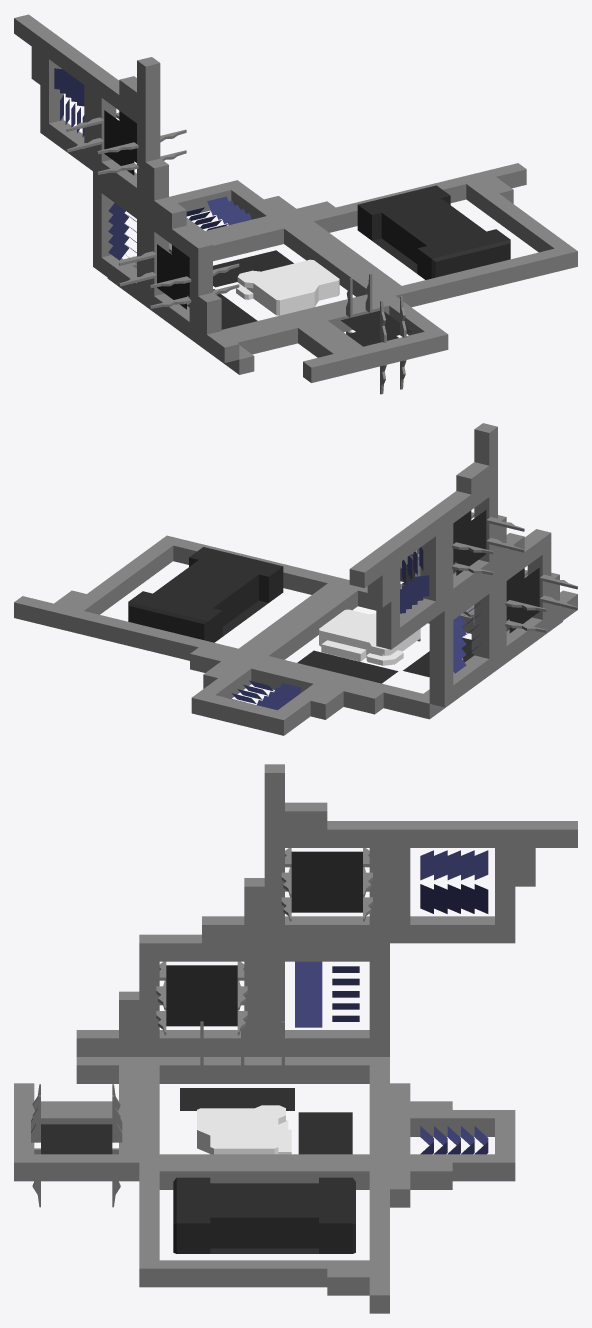
The model's file is StarbaseAtlasProjectProvingGrounds.glb.
3 views of the same model, one above another, from view 1: azimuth 30°, elevation 25°; view 2: azimuth 150°, elevation 25°; view 3: azimuth 270°, elevation 25° (orthographic). The views are drawn at different scales.
Parts seen in each view (by area): view 1: Block_Ship_Hangars.002, Block_Marketplace.002, Quarter_Block_Towers.037, Quarter_Block_Towers.038, Quarter_Block_Towers.039, Quarter_Block_solar.003, Quarter_Block_solar.002, Quarter_Block_Three_Quarter.023, Quarter_Block_solar.001, Quarter_Block_Quarter.008, Quarter_Block_Quarter.007, Quarter_Block_Quarter.009 (+3 smaller); view 2: Block_Ship_Hangars.002, Block_Marketplace.002, Quarter_Block_solar.001, Quarter_Block_solar.003, Quarter_Block_solar.002, Quarter_Block_Towers.039, Quarter_Block_Towers.038, Quarter_Block_Quarter.011, Quarter_Block_Quarter.009, Quarter_Block_Quarter.010, Quarter_Block_Quarter.013, Quarter_Block_Quarter.012 (+2 smaller); view 3: Block_Ship_Hangars.002, Block_Marketplace.002, Quarter_Block_Towers.039, Quarter_Block_Towers.038, Quarter_Block_solar.003, Quarter_Block_solar.002, Quarter_Block_Towers.037, Quarter_Block_solar.001, Quarter_Block_Three_Quarter.023, Quarter_Block_Quarter.009, Quarter_Block_Quarter.008, Quarter_Block_Quarter.007 (+4 smaller).
Part boxes in pixels (box(x1,y1,x2,y2)): Block_Ship_Hangars.002: box(290, 174, 577, 307); Block_Marketplace.002: box(107, 219, 394, 355); Quarter_Block_Towers.037: box(305, 273, 448, 394); Quarter_Block_Towers.038: box(119, 210, 239, 343); Quarter_Block_Towers.039: box(66, 72, 186, 209); Quarter_Block_solar.003: box(40, 34, 107, 170); Quarter_Block_solar.002: box(93, 171, 145, 304); Quarter_Block_Three_Quarter.023: box(213, 318, 356, 382); Quarter_Block_solar.001: box(169, 180, 289, 239); Quarter_Block_Quarter.008: box(145, 158, 186, 228); Quarter_Block_Quarter.007: box(198, 292, 239, 362); Quarter_Block_Quarter.009: box(119, 57, 160, 114); Block_Ship_Hangars.002: box(60, 535, 349, 660); Block_Marketplace.002: box(245, 582, 536, 719); Quarter_Block_solar.001: box(191, 658, 336, 735); Quarter_Block_solar.003: box(376, 510, 444, 649); Quarter_Block_solar.002: box(429, 572, 497, 707); Quarter_Block_Towers.039: box(410, 475, 524, 610); Quarter_Block_Towers.038: box(463, 529, 577, 667); Quarter_Block_Quarter.011: box(310, 681, 383, 719); Quarter_Block_Quarter.009: box(456, 423, 497, 494); Quarter_Block_Quarter.010: box(349, 549, 391, 607); Quarter_Block_Quarter.013: box(14, 590, 86, 628); Quarter_Block_Quarter.012: box(190, 647, 244, 688); Block_Ship_Hangars.002: box(139, 1162, 389, 1287); Block_Marketplace.002: box(139, 1021, 389, 1162); Quarter_Block_Towers.039: box(264, 821, 389, 943); Quarter_Block_Towers.038: box(139, 934, 264, 1056); Quarter_Block_solar.003: box(390, 821, 515, 943); Quarter_Block_solar.002: box(264, 943, 389, 1056); Quarter_Block_Towers.037: box(14, 1084, 139, 1207); Quarter_Block_solar.001: box(390, 1110, 515, 1181); Quarter_Block_Three_Quarter.023: box(14, 1057, 139, 1109); Quarter_Block_Quarter.009: box(264, 764, 327, 829); Quarter_Block_Quarter.008: box(202, 878, 264, 943); Quarter_Block_Quarter.007: box(76, 991, 139, 1056).
Bounding box in the file's own units: 937 × 568 × 833.
